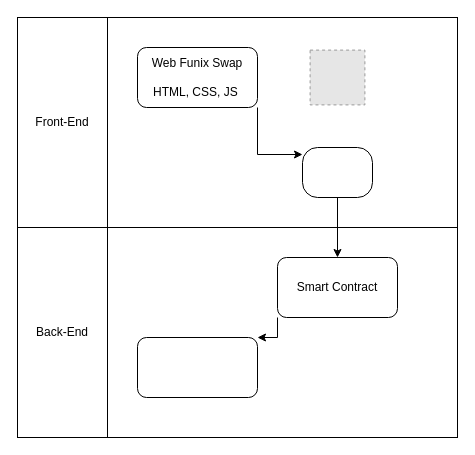
Image size: 475x455. Some labels were removed from this diagram. Grey dashed boxes stand in for pictures. The centre of each missing label's shape, as x and y in pixels:
"Ethereum Network" belongs at (x=197, y=367).
"Web3" belongs at (x=337, y=172).
